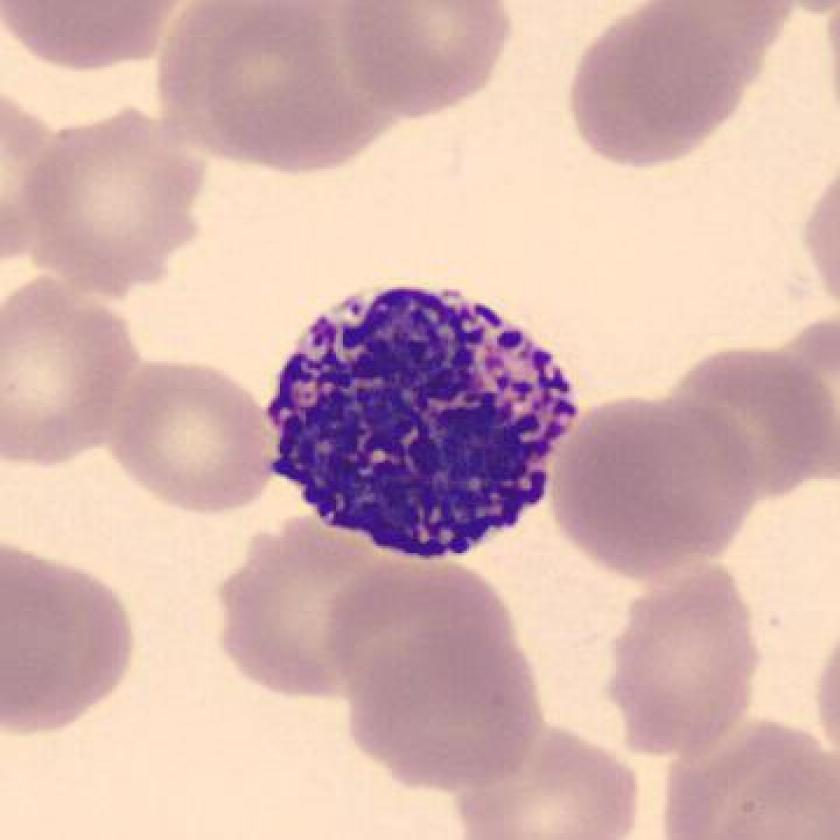basophil: (265, 279, 589, 573)
